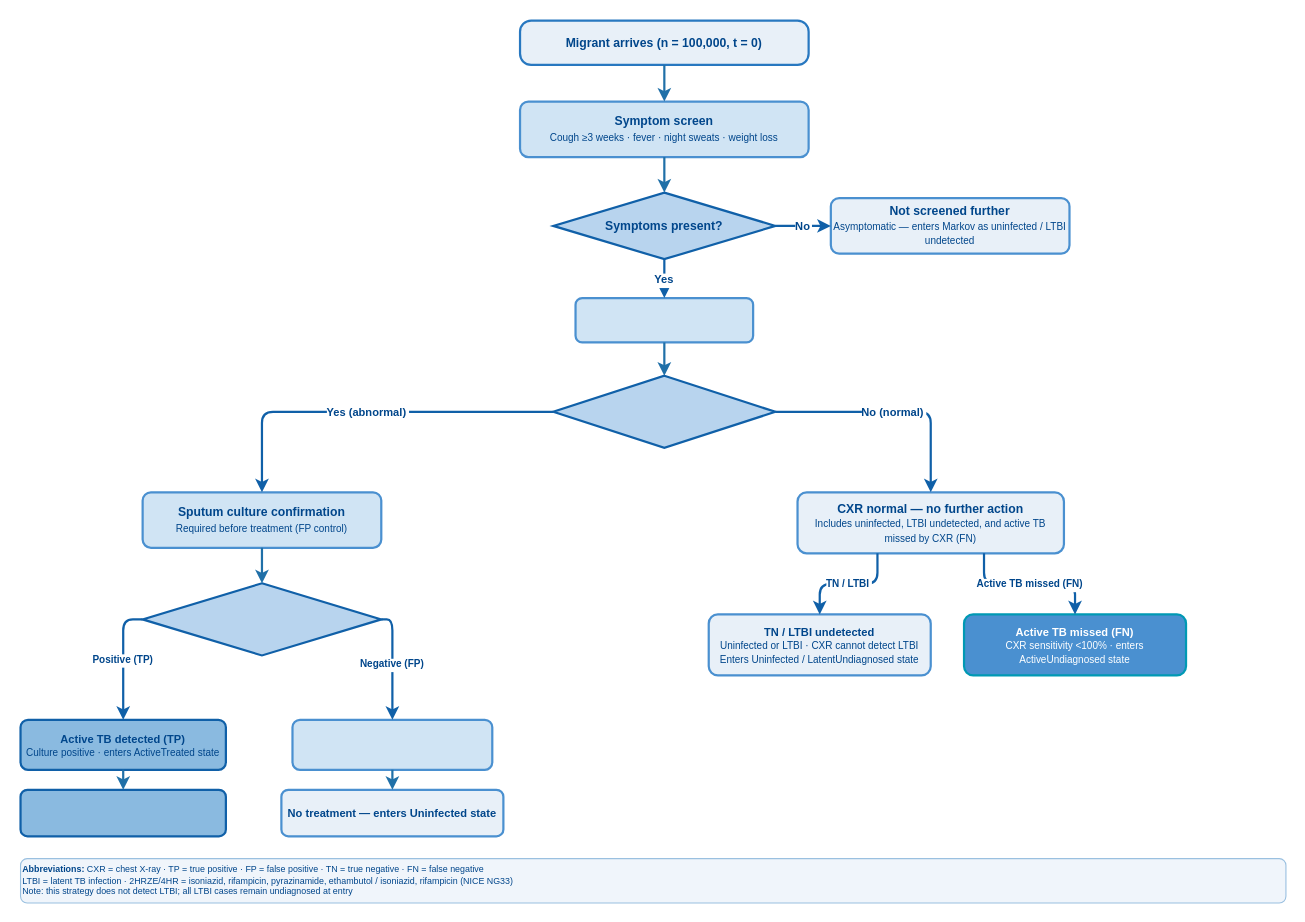
The diagram is 1305 pixels wide and 922 high, and some of its shapes have lost their labels. Each missing label, with the centre of its shape:
"Active TB treatment 2HRZE/4HR (6 months; NICE NG33)" goes at pixel 122 812.
"Chest X-ray (CXR)" goes at pixel 664 319.
"Culture positive?" goes at pixel 261 619.
"CXR abnormal?" goes at pixel 664 411.
"False positive (FP) Culture negative · TB excluded" goes at pixel 392 744.
